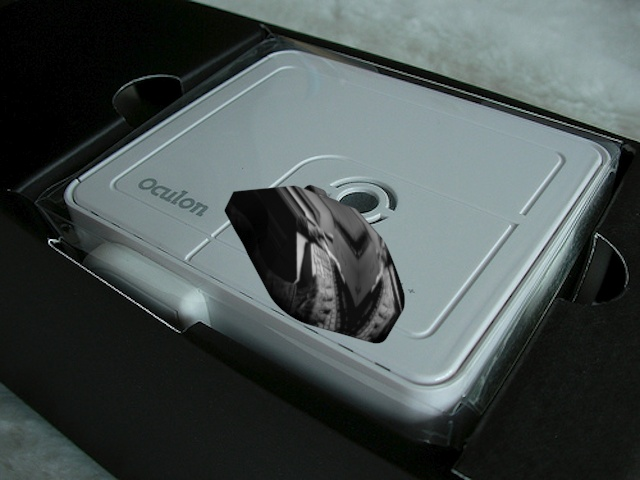mouse: (225, 185, 408, 344)
